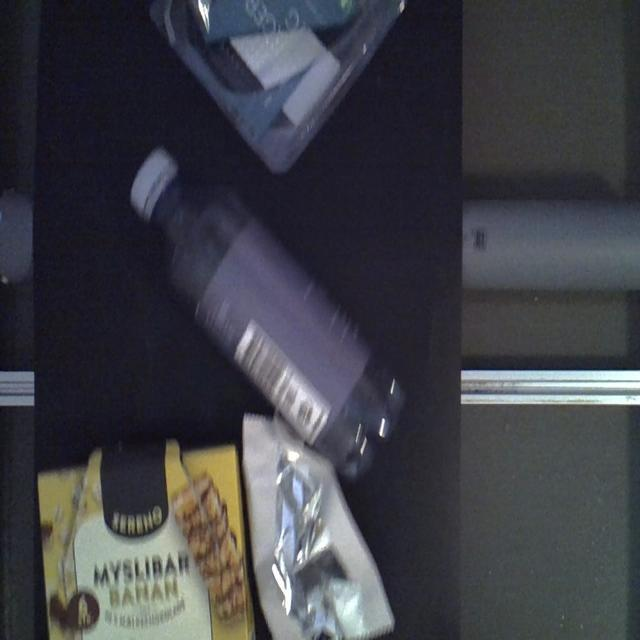bottle-plastic: (126, 140, 409, 484)
carton: (37, 435, 257, 637)
mixed-plastics: (148, 0, 406, 177)
packaging-soft-plastic: (242, 415, 396, 639)
